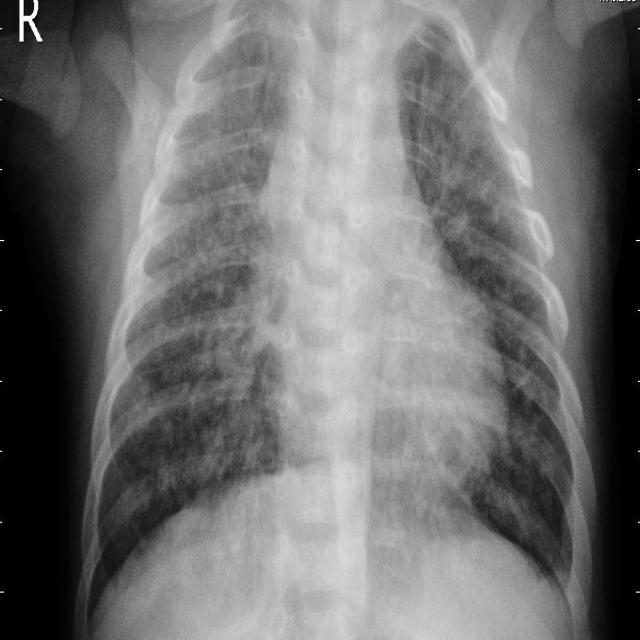low-pneumonia: (163, 139, 258, 395), (422, 63, 522, 273)
